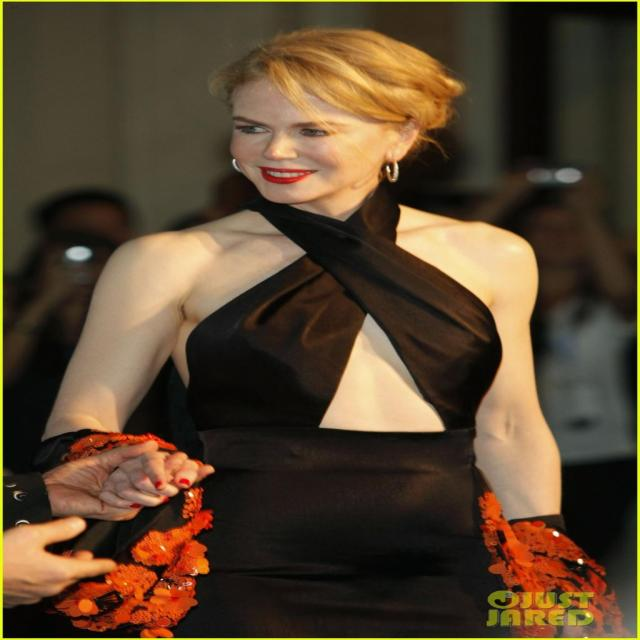Face: (225, 67, 371, 202)
